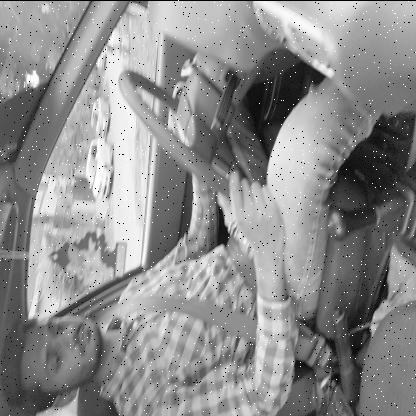seatbelt: (10, 272, 248, 416)
